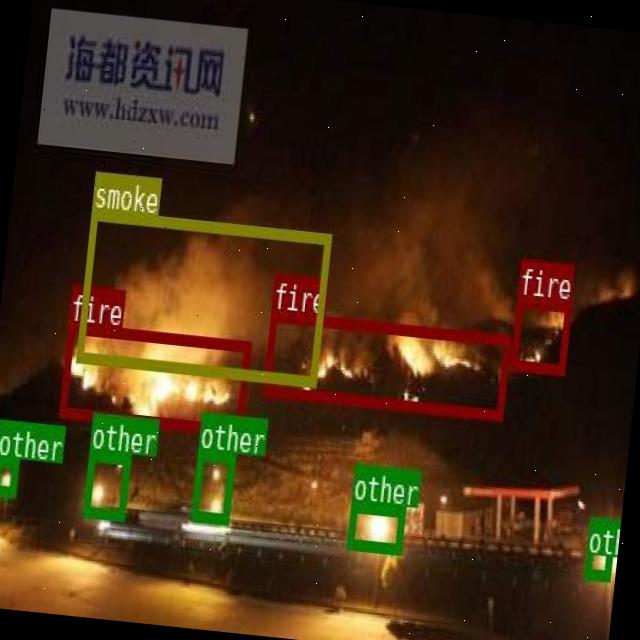fire: (261, 308, 510, 418), (58, 322, 250, 434), (508, 294, 570, 372)
smoke: (74, 208, 330, 384)
